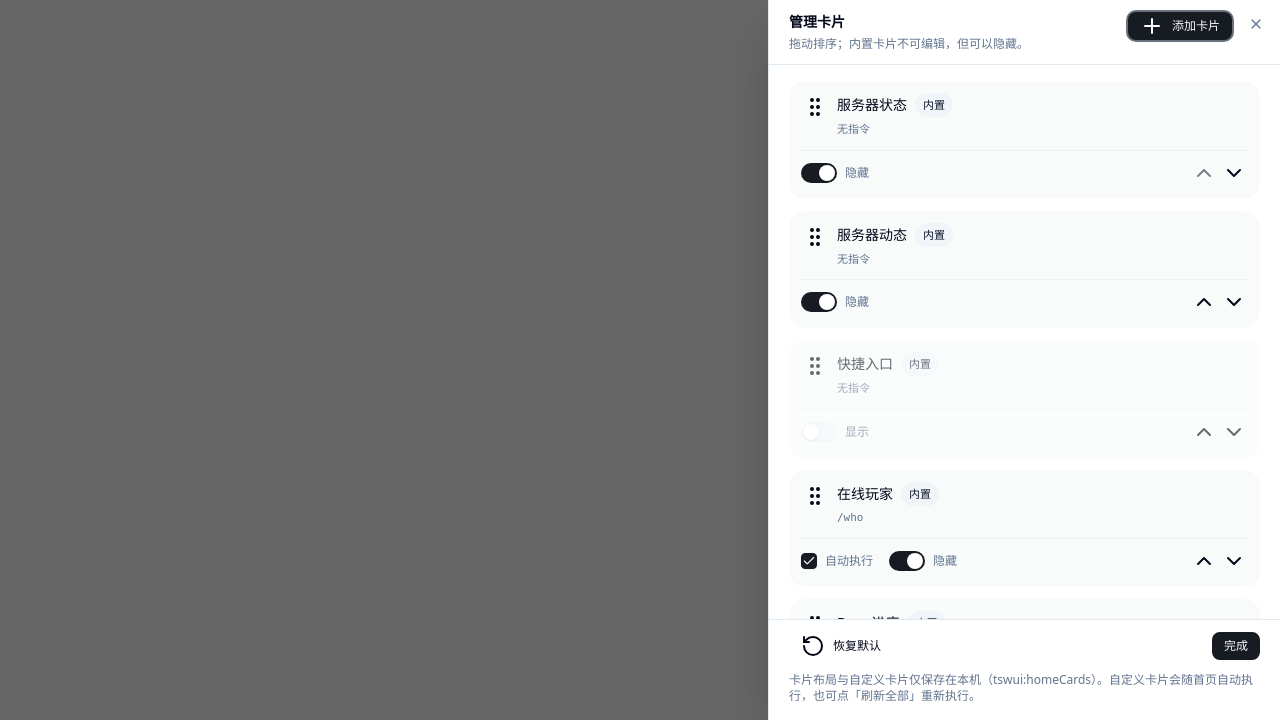
Test case: HomeCardManager › 自定义卡片指令输入框关联收藏指令的下拉候选
The width and height of the screenshot is (1280, 720).
Click the button "添加卡片" at [1180, 26], box x1=1128 y1=12 x2=1232 y2=40
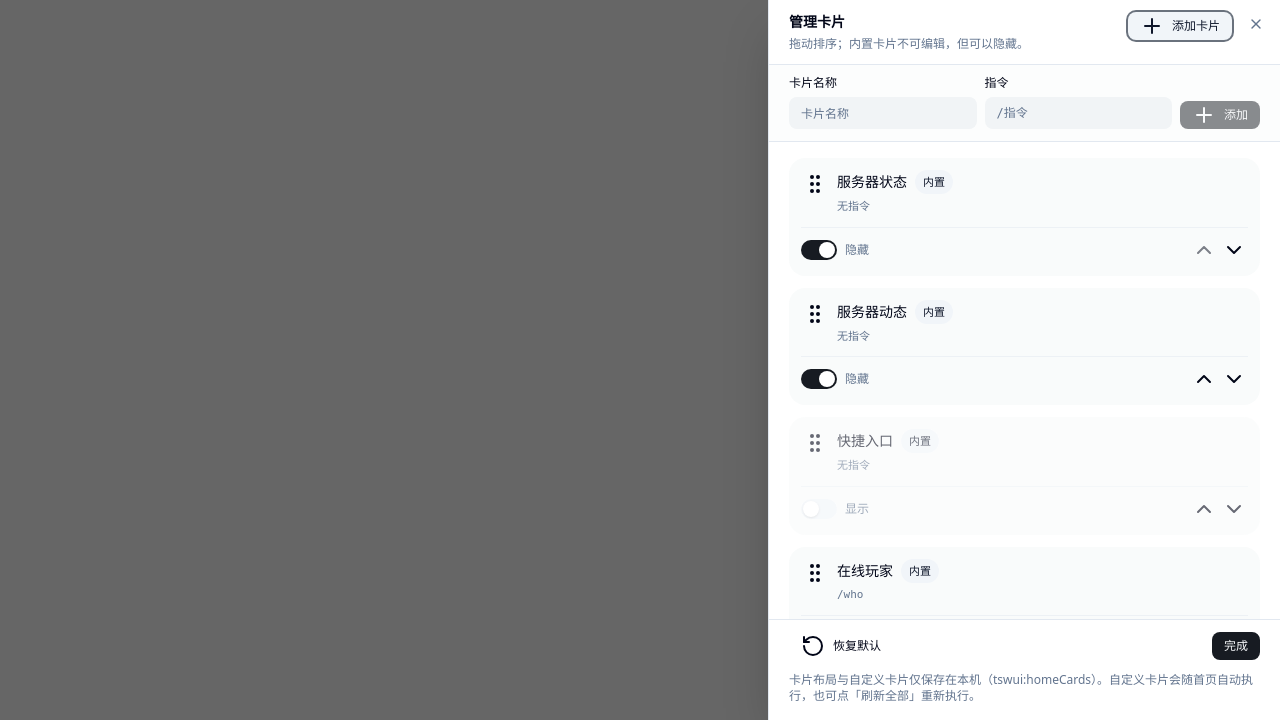
Type "卡片" into the field labelled "卡片名称" at [883, 113], box x1=789 y1=97 x2=976 y2=129
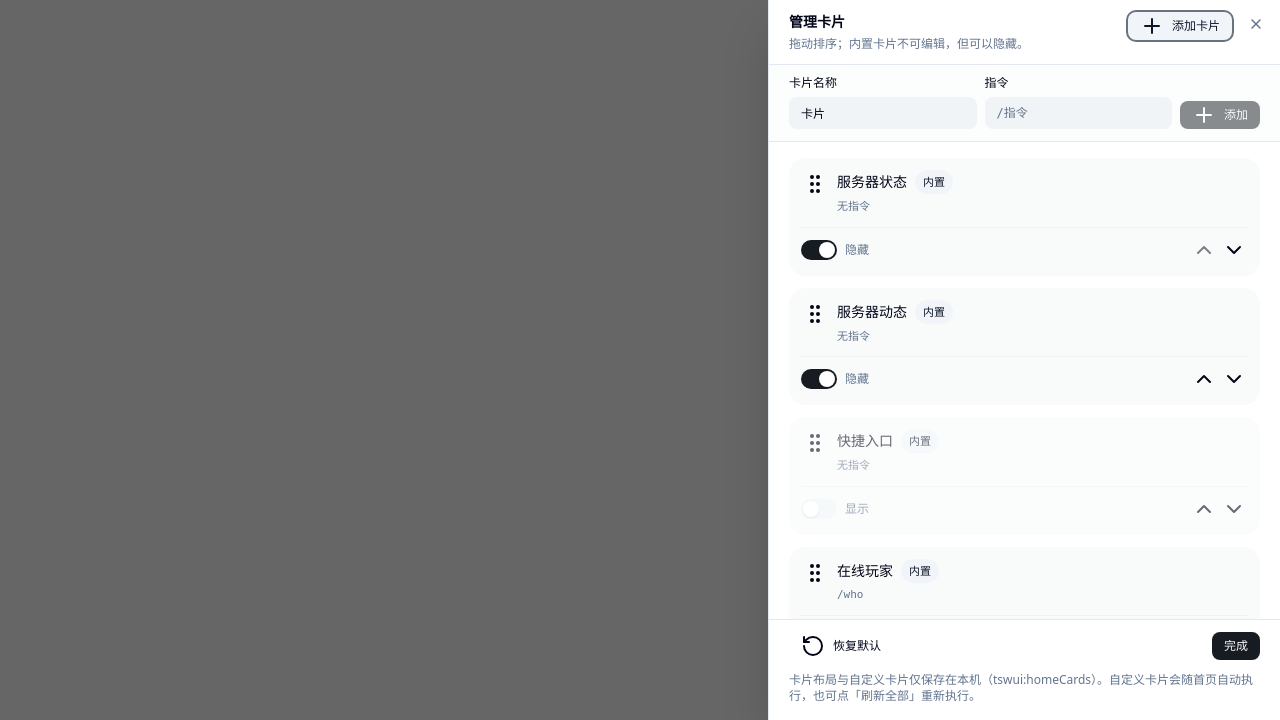
Type "time" into the field labelled "指令" at [1078, 113], box x1=984 y1=97 x2=1172 y2=129
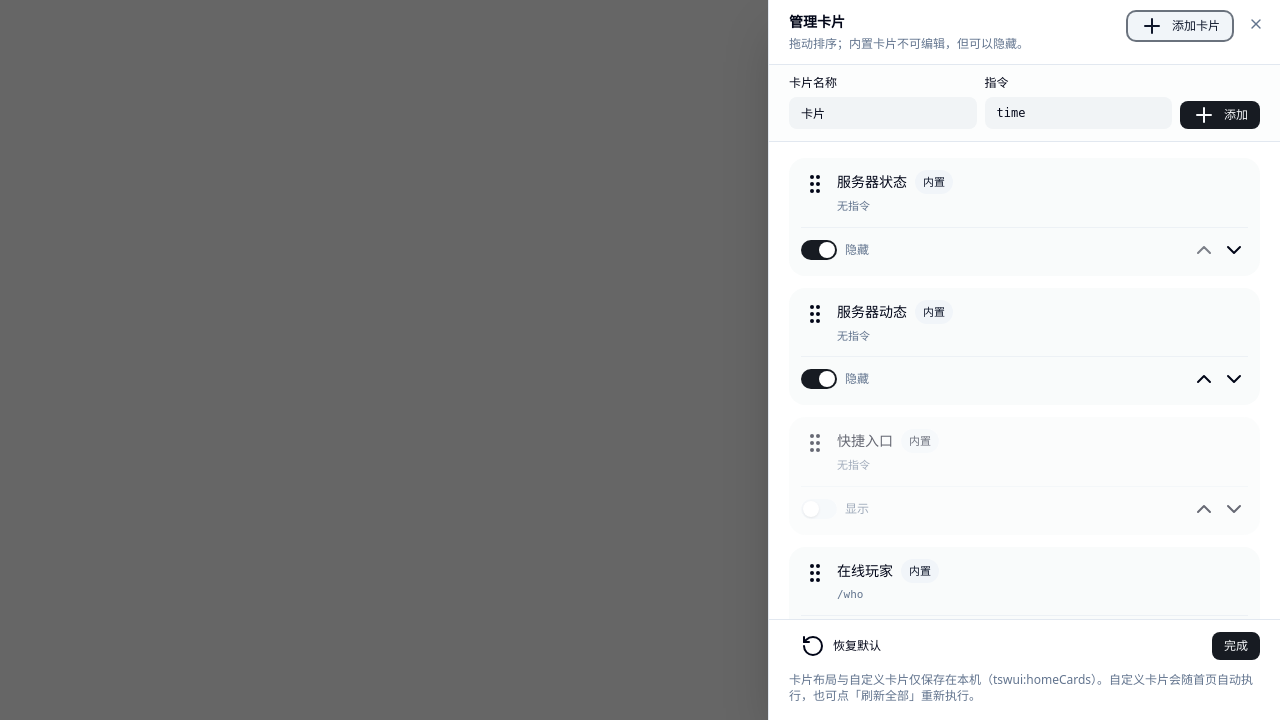
Click the button "添加" at [1220, 115], box x1=1180 y1=101 x2=1260 y2=129
(page scrolled)
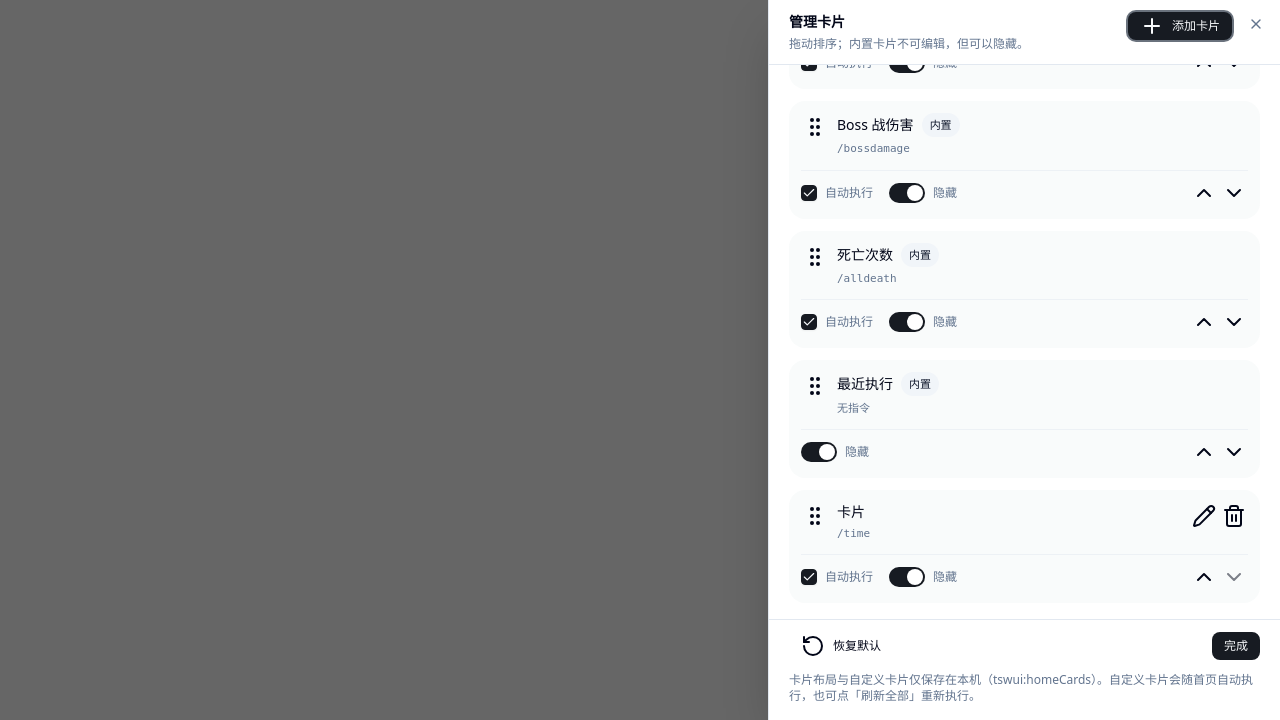
Click the button named "编辑" at [1204, 516], box x1=1190 y1=502 x2=1218 y2=530
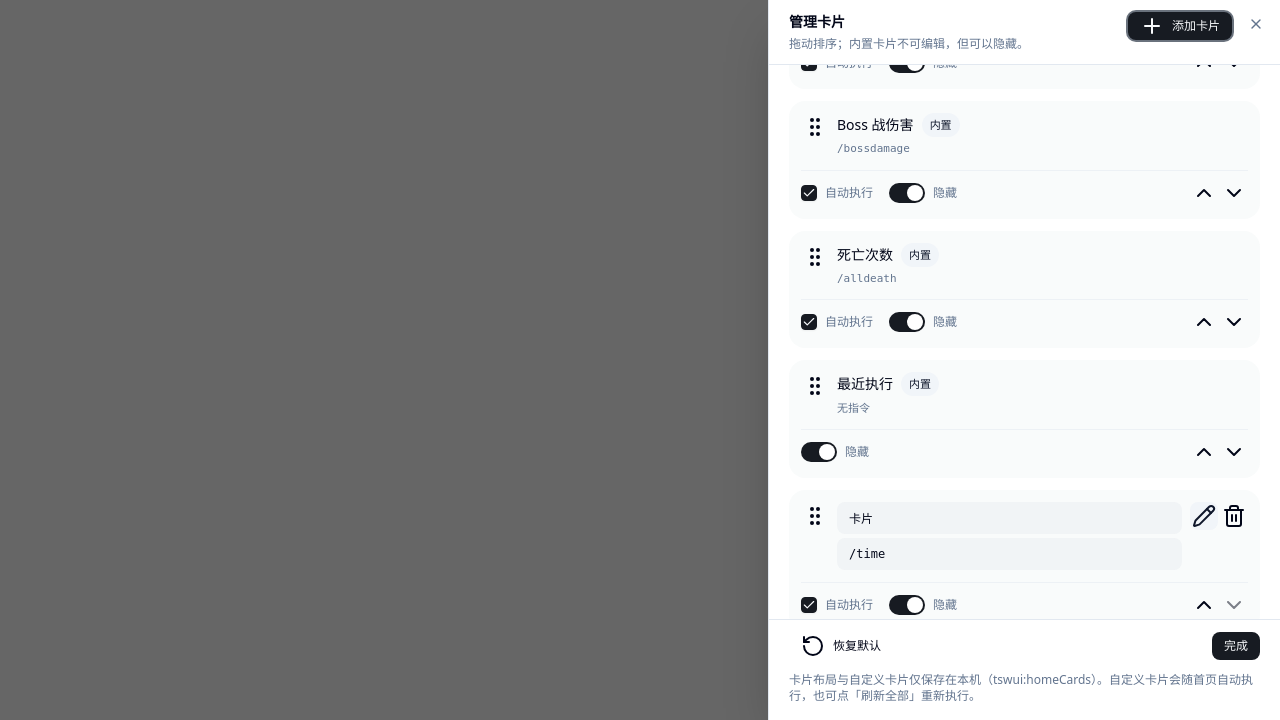
Check: the field with placeholder "/指令" is shown, box x1=837 y1=538 x2=1182 y2=570
